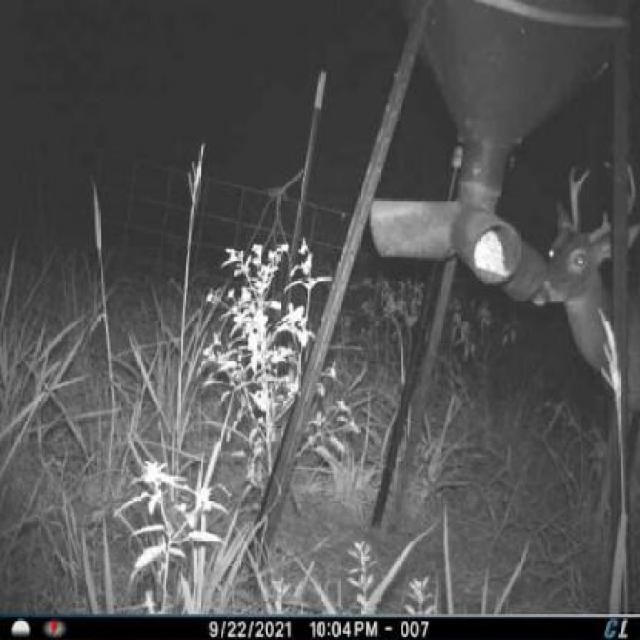Deer: (533, 146, 635, 534)
